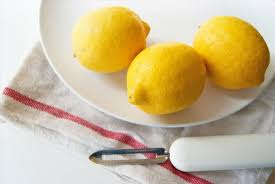Lemon: (124, 41, 208, 115), (72, 7, 162, 74), (191, 15, 275, 82)
